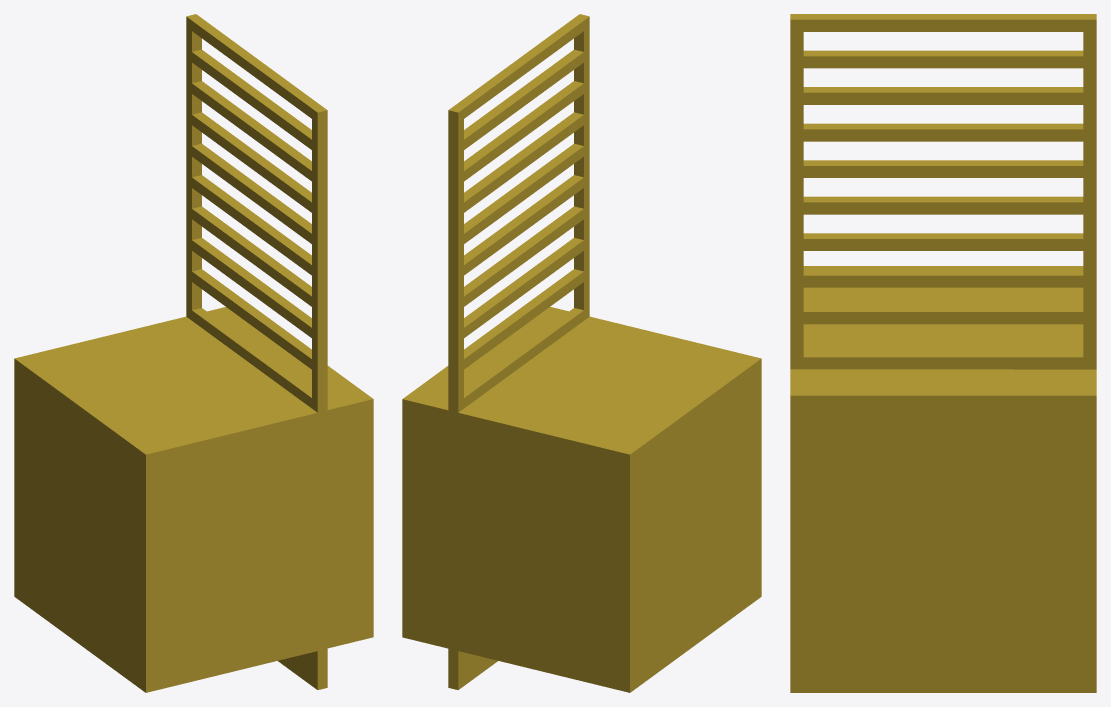
Rendered from rot5_bridge.gltf.
3 renders of one model, left to right at view 1: azimuth 30°, elevation 25°; view 2: azimuth 150°, elevation 25°; view 3: azimuth 270°, elevation 25°, orthographic. The views are drawn at different scales.
Parts seen in each view (by area): view 1: rot5.bridge; view 2: rot5.bridge; view 3: rot5.bridge.
Boxes of the visible parts, x1=… form: rot5.bridge: x1=14, y1=14, x2=373, y2=692; rot5.bridge: x1=402, y1=14, x2=761, y2=692; rot5.bridge: x1=790, y1=14, x2=1096, y2=692.
Bounding box in the file's own units: 4.56 × 11.05 × 4.56.
